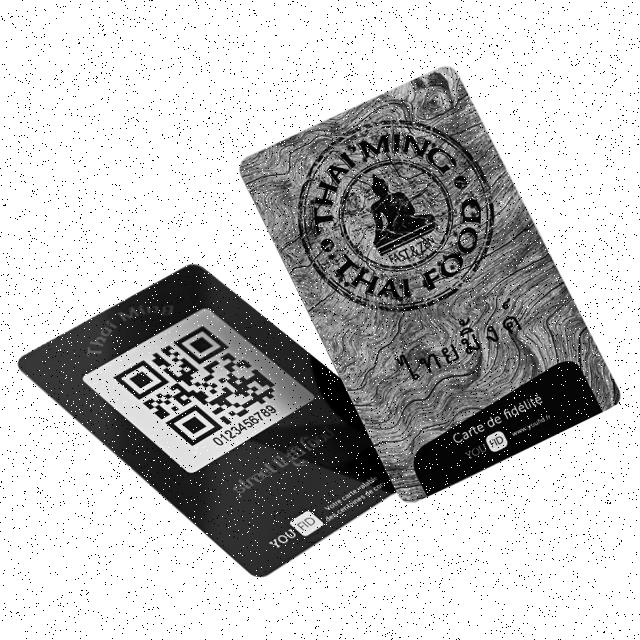QR-codes: (117, 324, 277, 446)
